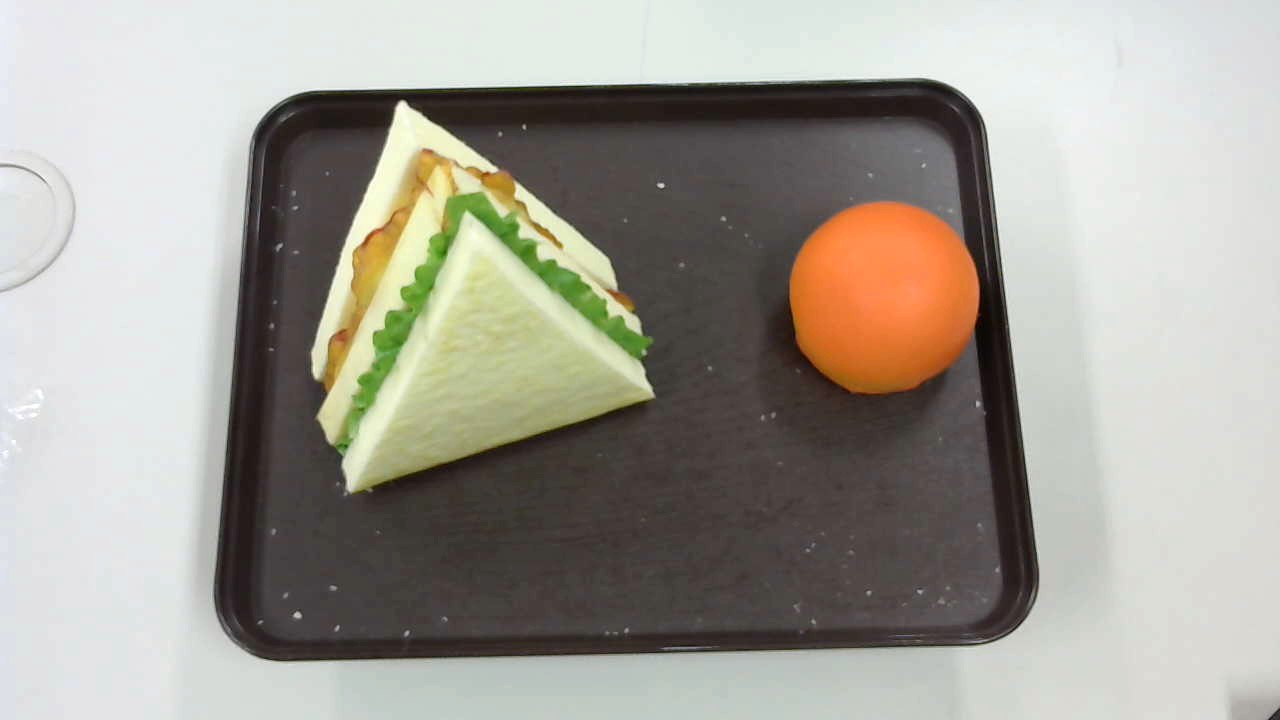bun: (789, 200, 980, 394)
sandwich: (309, 98, 656, 494)
